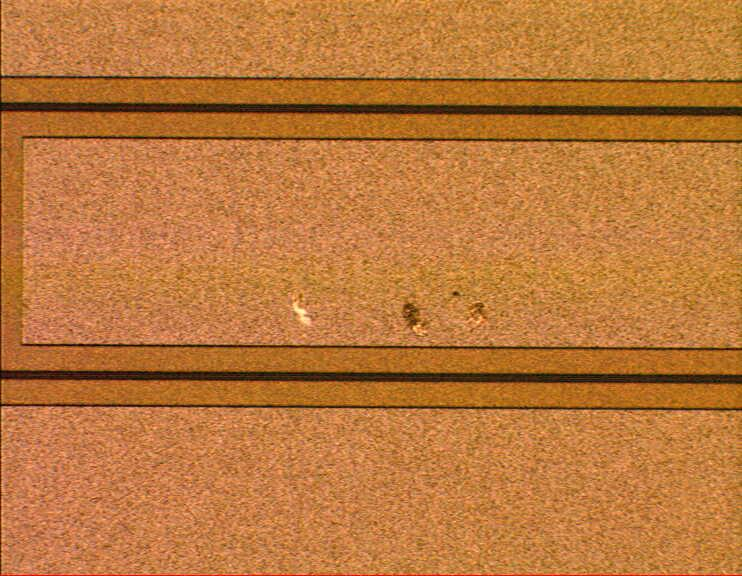SCRATCH: (270, 288, 521, 339)
